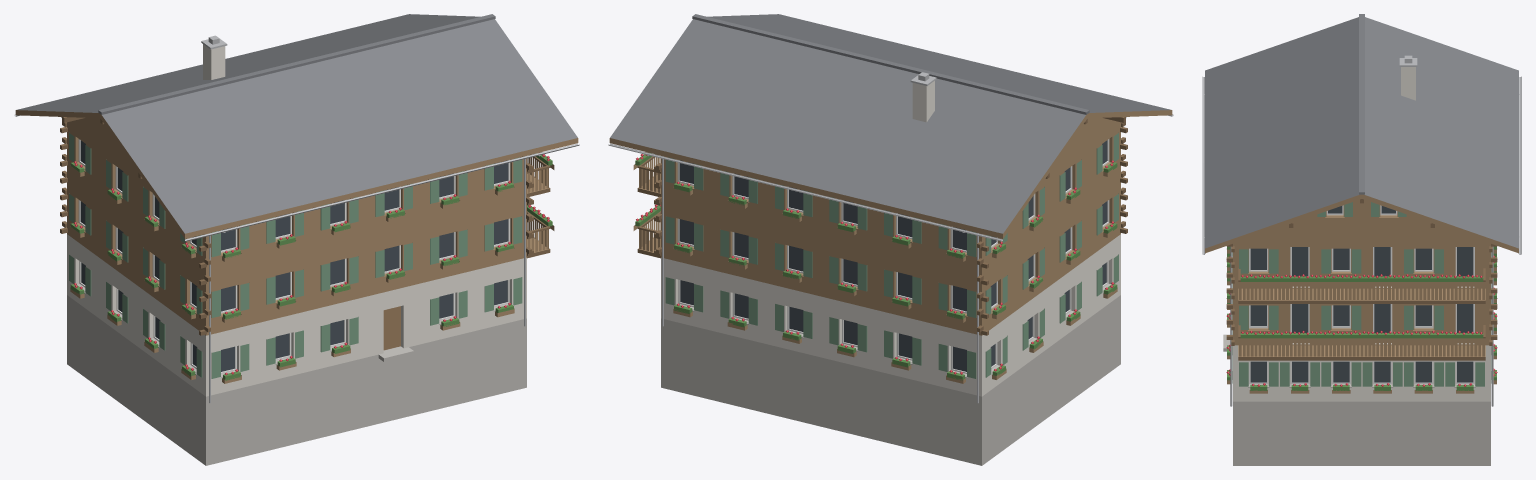
The model's file is chalet_3_l.glb.
The picture shows the model from 3 angles, left to right: view 1: azimuth 30°, elevation 25°; view 2: azimuth 150°, elevation 25°; view 3: azimuth 270°, elevation 25°; orthographic projection. The views are drawn at different scales.
Visible parts, largest first — view 1: chalet_3_l; view 2: chalet_3_l; view 3: chalet_3_l.
Part boxes in pixels (x1,y1,x2,y2): chalet_3_l: (14,14,579,465); chalet_3_l: (608,14,1173,465); chalet_3_l: (1202,14,1521,465).
Bounding box in the file's own units: 19.64 × 15.9 × 14.86.
